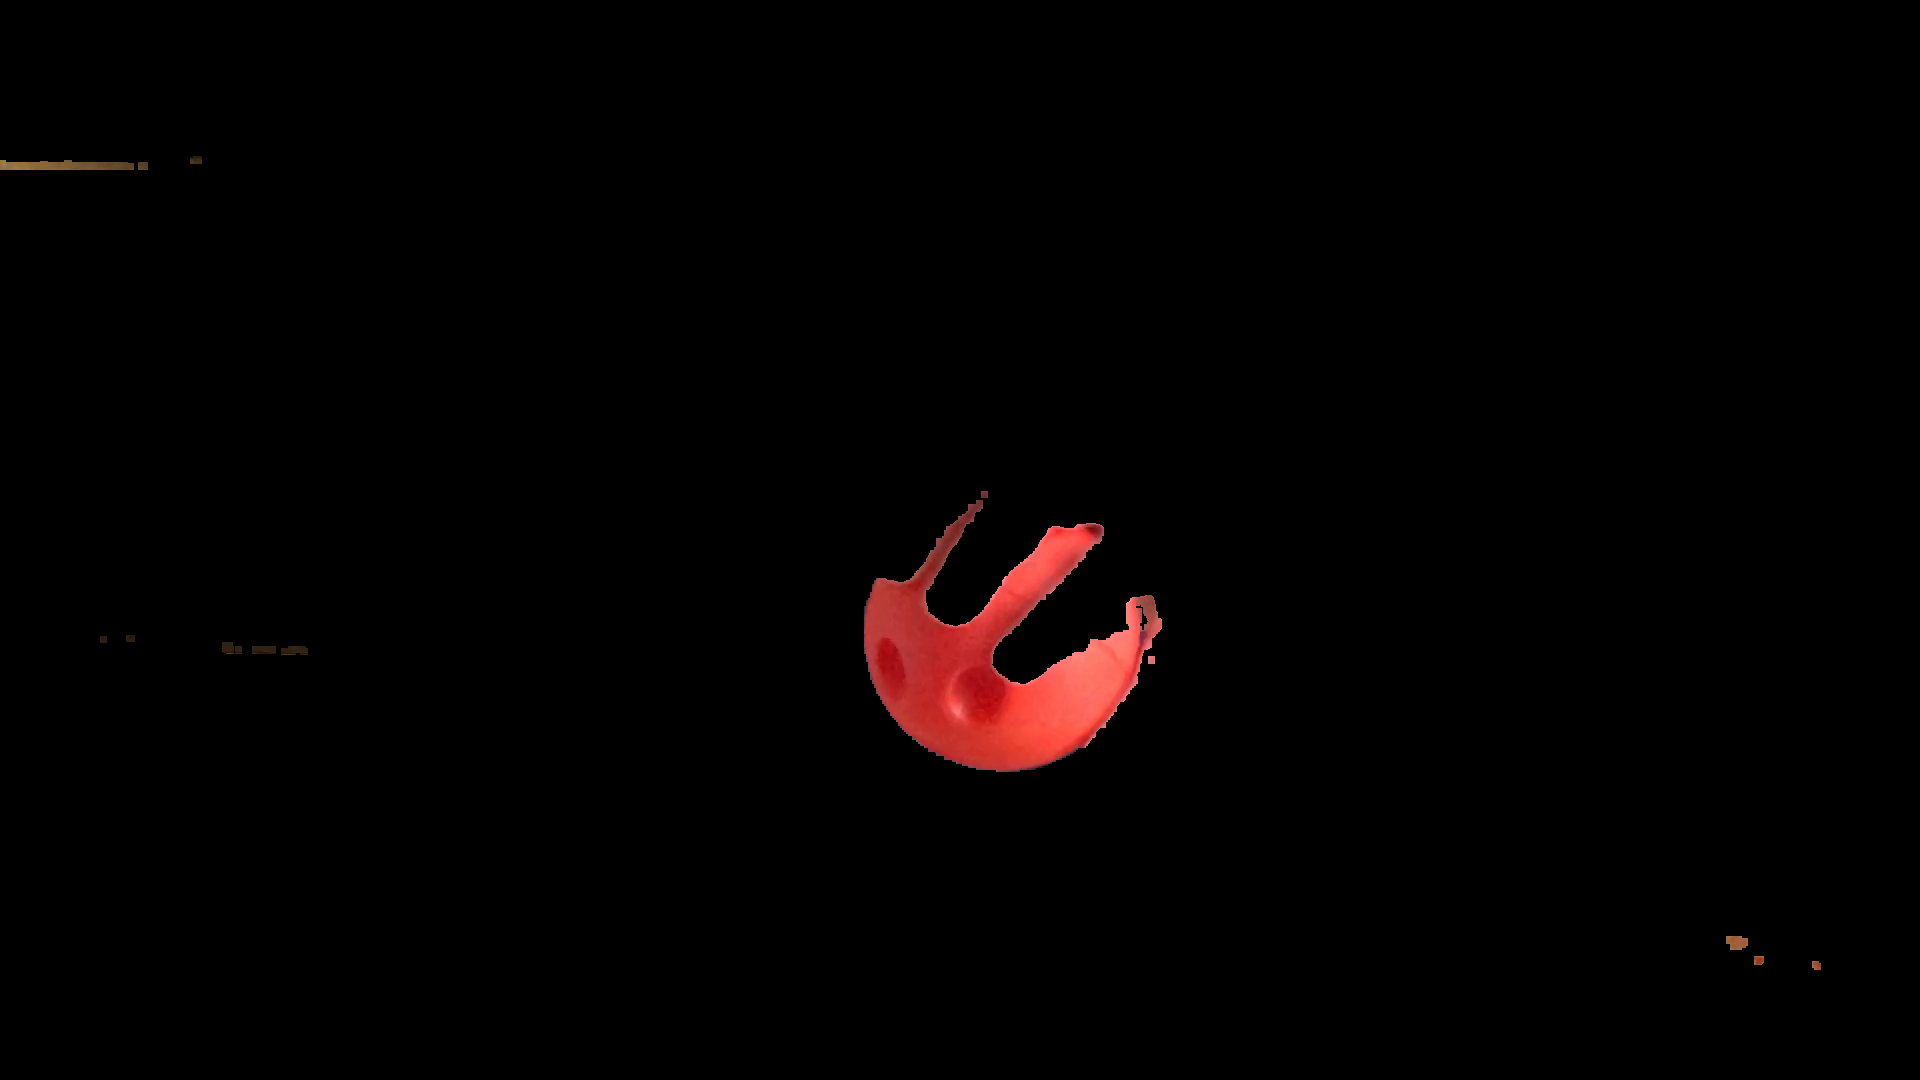Ball: (866, 488, 1146, 765)
